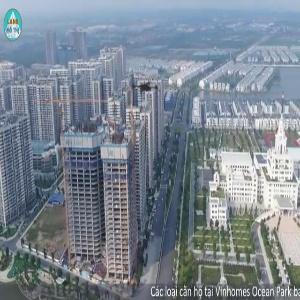drone: (119, 60, 172, 113)
